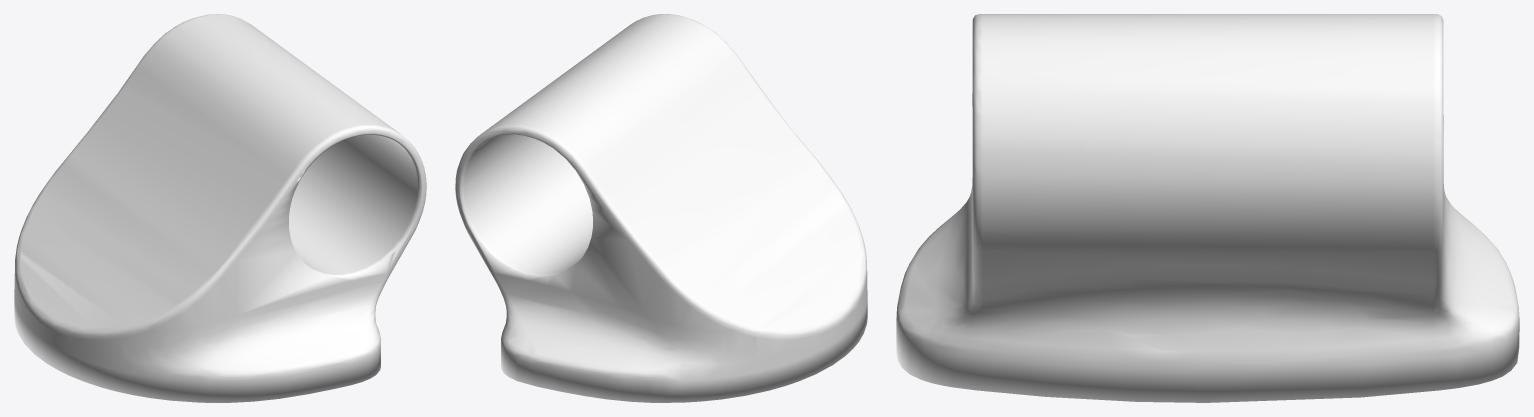
File: head_pan.dae
The picture shows the model from 3 angles, left to right: view 1: azimuth 30°, elevation 25°; view 2: azimuth 150°, elevation 25°; view 3: azimuth 270°, elevation 25°; orthographic projection. The views are drawn at different scales.
Parts seen in each view (by area): view 1: Head_Pan; view 2: Head_Pan; view 3: Head_Pan.
Boxes of the visible parts, x1,y1,x2,y2 form: Head_Pan: (14,14,426,402); Head_Pan: (455,14,867,402); Head_Pan: (896,14,1519,402).
Bounding box in the file's own units: 0.105 × 0.1218 × 0.0749.
Materials: 1 (1 with a texture image).
